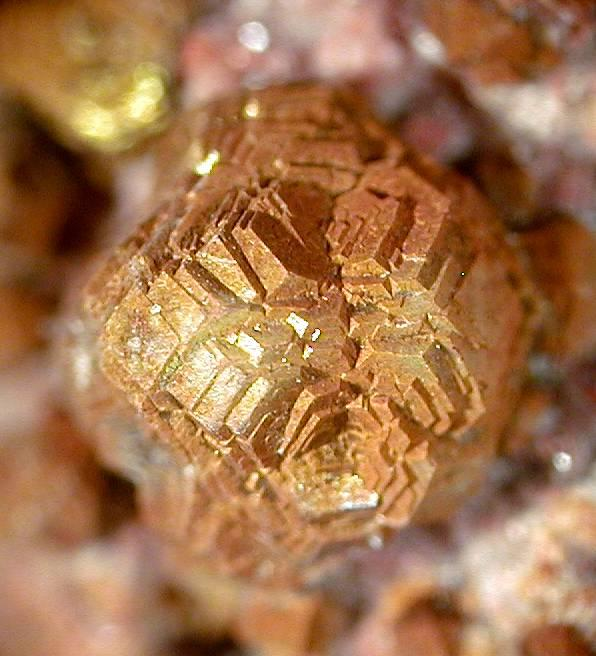pyrite: (99, 86, 484, 525)
